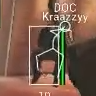hacks_1: (28, 3, 88, 96)
